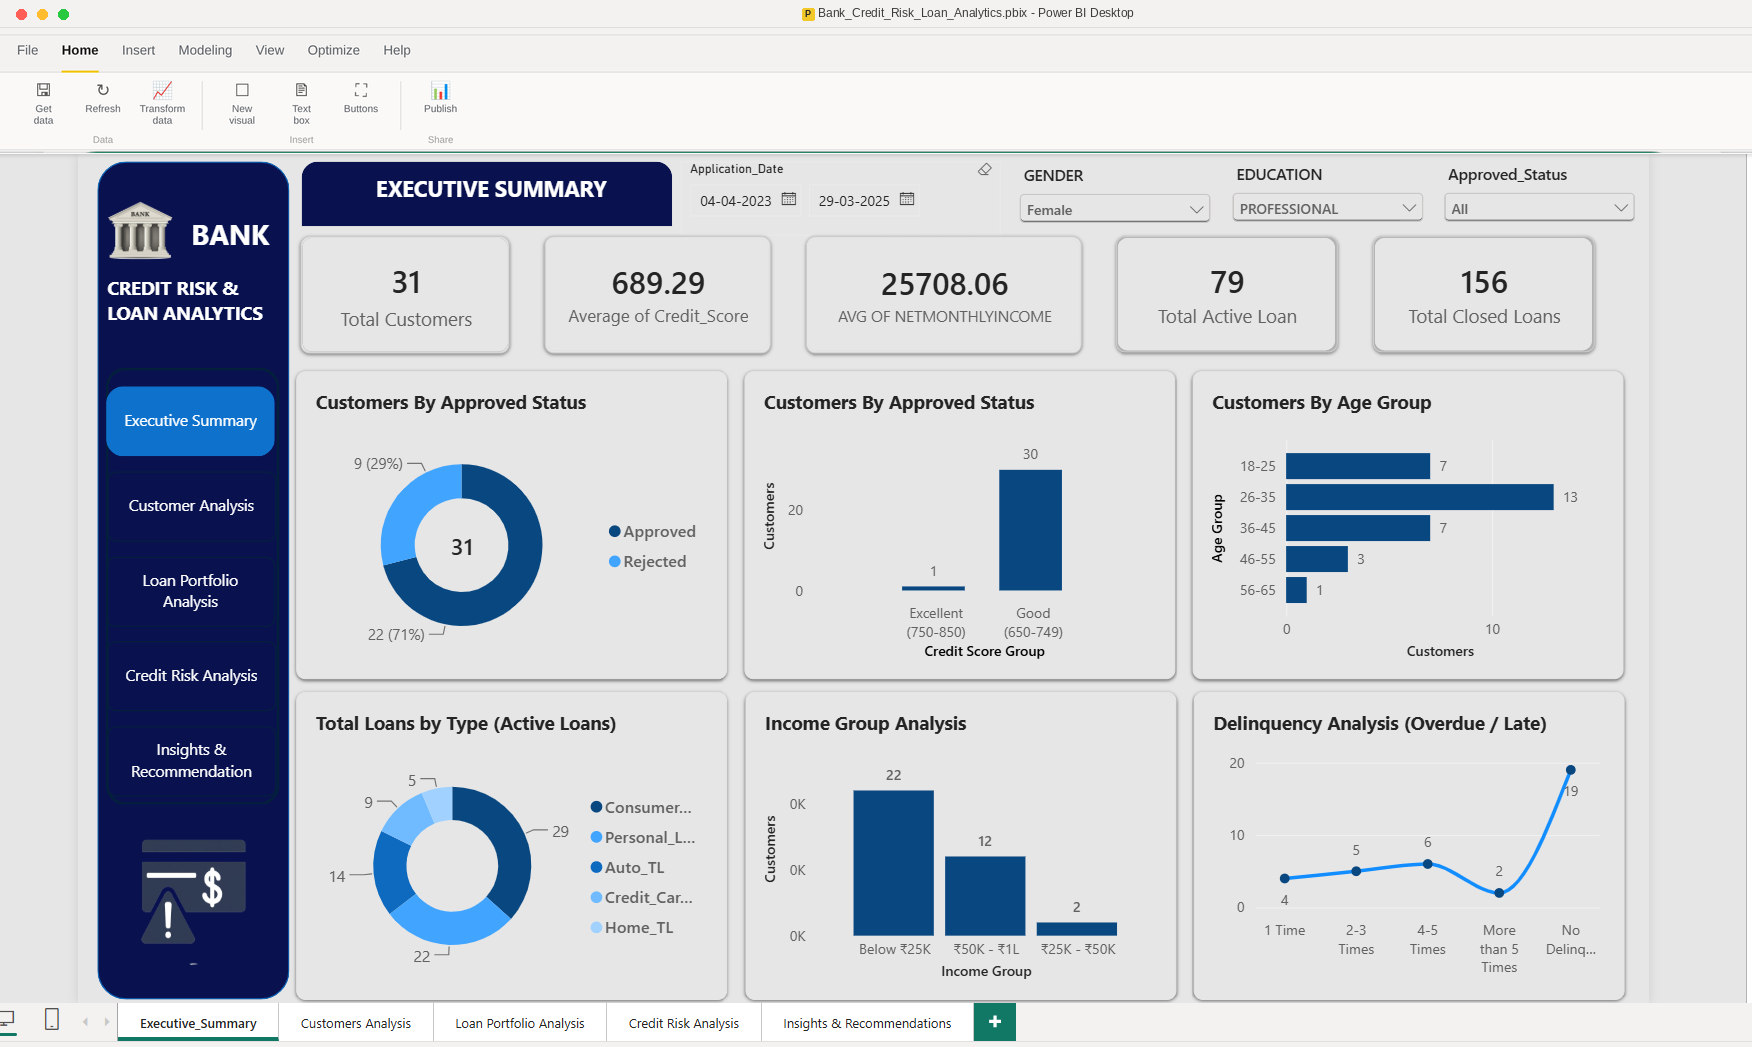

This screenshot's page, from the dashboard's own definition file:
{"tool":"powerbi","page":{"name":"Executive_Summary","canvas":[1350,730],"ordinal":0},"visuals":[{"type":"shape","box":[16.4,6.2,165,720],"z":0},{"type":"image","box":[16.4,27,71.8,77],"z":1000},{"type":"textbox","box":[88.1,51.9,85.3,36.4],"z":2000},{"type":"textbox","box":[24.7,103.9,174.3,55.7],"z":3000},{"type":"shape","box":[23.9,184.1,148.7,375.5],"z":4000},{"type":"actionButton","title":"Executive Summary","box":[23.9,199.7,145,60.3],"z":5000},{"type":"actionButton","title":"Executive Summary","box":[25,272.7,145,60.3],"z":6000},{"type":"actionButton","title":"Executive Summary","box":[23.9,345.8,145,60.3],"z":7000},{"type":"actionButton","title":"Executive Summary","box":[25,418.9,145,60.3],"z":8000},{"type":"actionButton","title":"Executive Summary","box":[25,491.9,145,60.3],"z":9000},{"type":"shape","box":[192.4,6.2,318.6,55.7],"z":10000},{"type":"textbox","box":[223.6,16.6,263.1,35.4],"z":11000},{"type":"slicer","fields":{"Values":["Dim_Customer.Application_Date"]},"box":[517.9,6.2,275.6,64.5],"z":12000},{"type":"slicer","fields":{"Values":["Dim_Customer.GENDER"]},"box":[805,8.2,173.7,60.3],"z":13000},{"type":"slicer","fields":{"Values":["Dim_Customer.EDUCATION"]},"box":[987,7.1,173.7,60.3],"z":14000},{"type":"slicer","fields":{"Values":["Dim_Customer.Approved_Status"]},"box":[1169,7.3,173.7,60.3],"z":15000},{"type":"cardVisual","fields":{"Data":["Count(Dim_Customer.PROSPECTID)"]},"box":[191,70.7,180,101],"z":16000},{"type":"cardVisual","fields":{"Data":["Avg(Dim_Customer.Credit_Score)"]},"box":[400.8,70.7,194.5,100.9],"z":17000},{"type":"cardVisual","fields":{"Data":["Avg(Dim_Customer.NETMONTHLYINCOME)"]},"box":[625.1,70.7,237.1,100.9],"z":18000},{"type":"cardVisual","fields":{"Data":["Sum(Fact_loan.Active Loan Count)"]},"box":[892,70.7,190.5,100.4],"z":19000},{"type":"cardVisual","fields":{"Data":["Sum(Fact_loan.Tot_Closed_TL)"]},"box":[1112.3,70.7,190.5,100.4],"z":20000},{"type":"donutChart","title":"Customers By Approved Status","fields":{"Category":["Dim_Customer.Approved_Status"],"Y":["CountNonNull(Dim_Customer.PROSPECTID)"]},"box":[187.6,186.2,370,264.7],"z":21000},{"type":"clusteredColumnChart","title":"Customers By Approved Status","fields":{"Category":["Dim_Customer.Credit Score Group"],"Y":["CountNonNull(Dim_Customer.PROSPECTID)"]},"box":[572.8,186.3,370,264.7],"z":22000},{"type":"clusteredBarChart","title":"Customers By Age Group","fields":{"Category":["Dim_Customer.Age Group"],"Y":["CountNonNull(Dim_Customer.PROSPECTID)"]},"box":[958.2,186.3,370,264.7],"z":23000},{"type":"pieChart","title":"Total Loans by Type (Active Loans)","fields":{"Category":["Fact_loan.Loan_Type"],"Y":["Sum(Fact_loan.Active Loan Count)"]},"box":[187.3,461.8,370,264.7],"z":24000},{"type":"clusteredColumnChart","title":"Income Group Analysis","fields":{"Category":["Dim_Customer.Income Group"],"Y":["CountNonNull(Fact_loan.PROSPECTID)"]},"box":[573.8,461.8,370,264.7],"z":25000},{"type":"lineChart","title":"Delinquency Analysis (Overdue  / Late)","fields":{"Category":["Dim_Customer.Delinquency Group"],"Y":["CountNonNull(Fact_loan.PROSPECTID)"]},"box":[958.3,461.8,370,264.7],"z":26000}]}

Visuals, with their boxes on the page's 1350x730 design canvas (x1, y1, x2, y2). These are canvas units, not pixel positions in the 1752x1047 screenshot, which may show the page scaled, cropped or inside an application window:
shape: (16,6,181,726)
image: (16,27,88,104)
textbox: (88,52,173,88)
textbox: (25,104,199,160)
shape: (24,184,173,560)
"Executive Summary" actionButton: (24,200,169,260)
"Executive Summary" actionButton: (25,273,170,333)
"Executive Summary" actionButton: (24,346,169,406)
"Executive Summary" actionButton: (25,419,170,479)
"Executive Summary" actionButton: (25,492,170,552)
shape: (192,6,511,62)
textbox: (224,17,487,52)
slicer - Dim_Customer.Application_Date: (518,6,794,71)
slicer - Dim_Customer.GENDER: (805,8,979,68)
slicer - Dim_Customer.EDUCATION: (987,7,1161,67)
slicer - Dim_Customer.Approved_Status: (1169,7,1343,68)
cardVisual - Count(Dim_Customer.PROSPECTID): (191,71,371,172)
cardVisual - Avg(Dim_Customer.Credit_Score): (401,71,595,172)
cardVisual - Avg(Dim_Customer.NETMONTHLYINCOME): (625,71,862,172)
cardVisual - Sum(Fact_loan.Active Loan Count): (892,71,1082,171)
cardVisual - Sum(Fact_loan.Tot_Closed_TL): (1112,71,1303,171)
"Customers By Approved Status" donutChart: (188,186,558,451)
"Customers By Approved Status" clusteredColumnChart: (573,186,943,451)
"Customers By Age Group" clusteredBarChart: (958,186,1328,451)
"Total Loans by Type (Active Loans)" pieChart: (187,462,557,726)
"Income Group Analysis" clusteredColumnChart: (574,462,944,726)
"Delinquency Analysis (Overdue  / Late)" lineChart: (958,462,1328,726)
